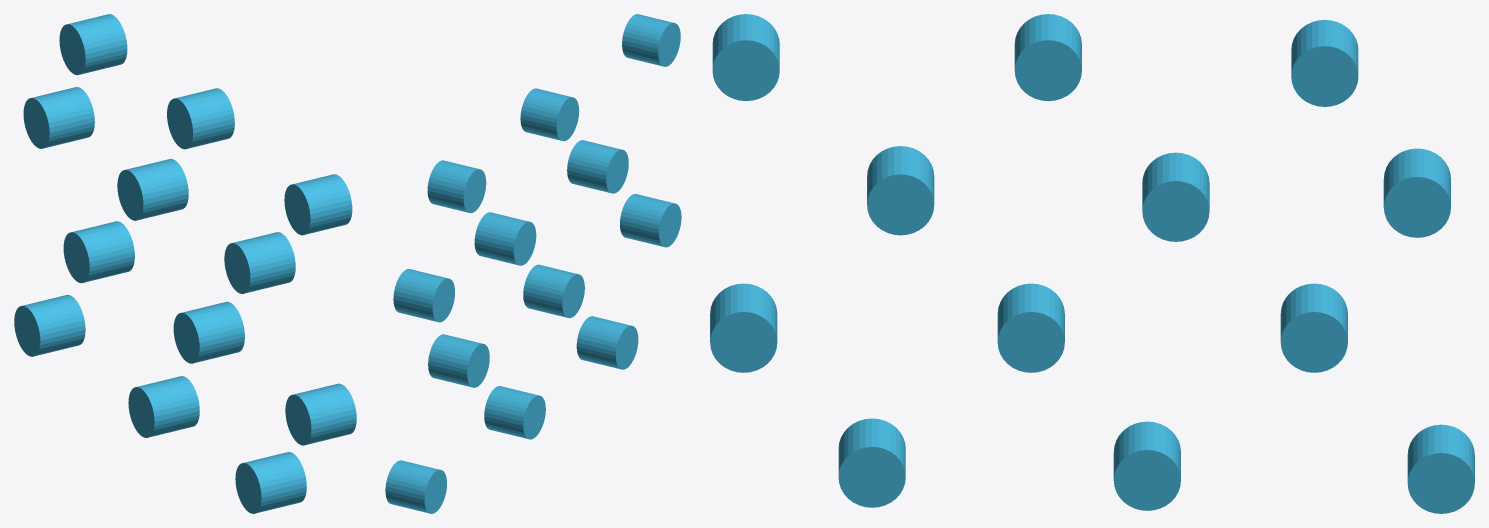
Rendered from rack.glb.
The picture shows the model from 3 angles, left to right: view 1: azimuth 30°, elevation 25°; view 2: azimuth 150°, elevation 25°; view 3: azimuth 270°, elevation 25°; orthographic projection. The views are drawn at different scales.
Parts seen in each view (by area): view 1: Rack; view 2: Rack; view 3: Rack.
Boxes of the visible parts, <box> form: Rack: <box>14,14,356,513</box>; Rack: <box>385,14,681,513</box>; Rack: <box>710,14,1474,513</box>.
Bounding box in the file's own units: 0.4516 × 3.5 × 5.14.
